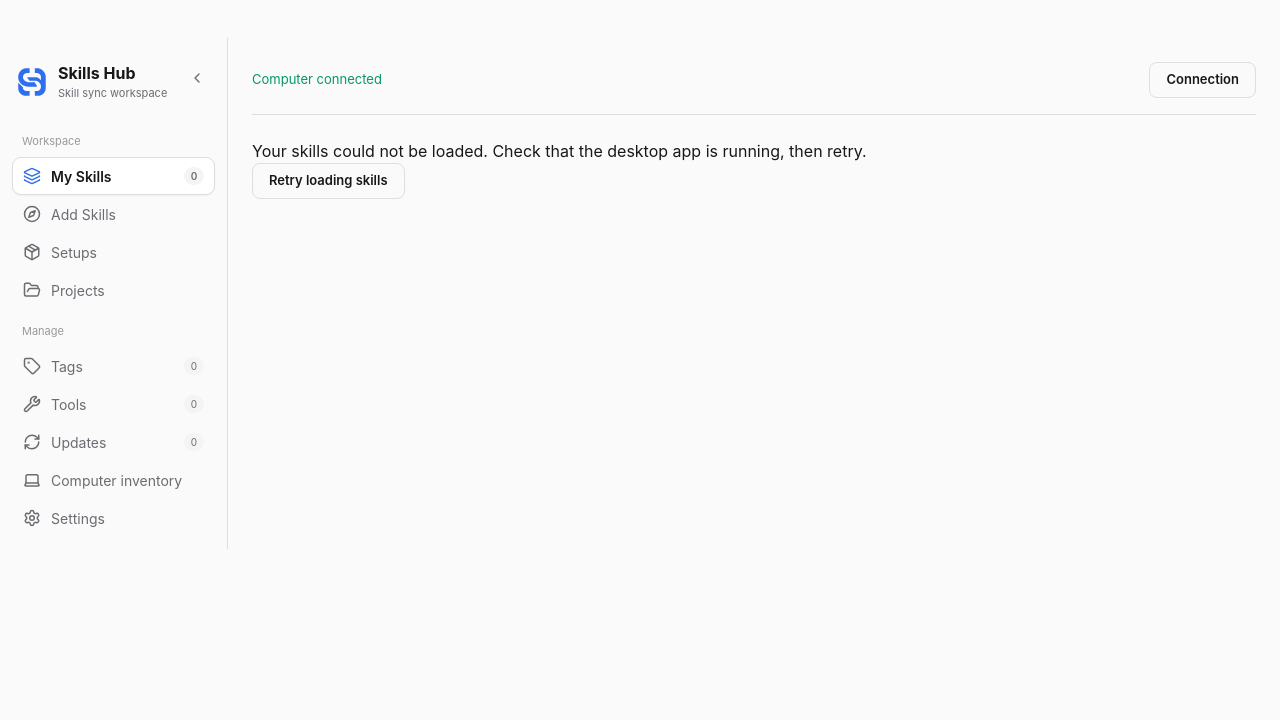
Scenario: keeps a failed first library load recoverable after transient feedback disappears
Expected: the message shows "Your skills could not be loaded", [252, 141, 867, 161]
Click the button "Retry loading skills".
click(328, 181)  # box [252, 163, 405, 199]
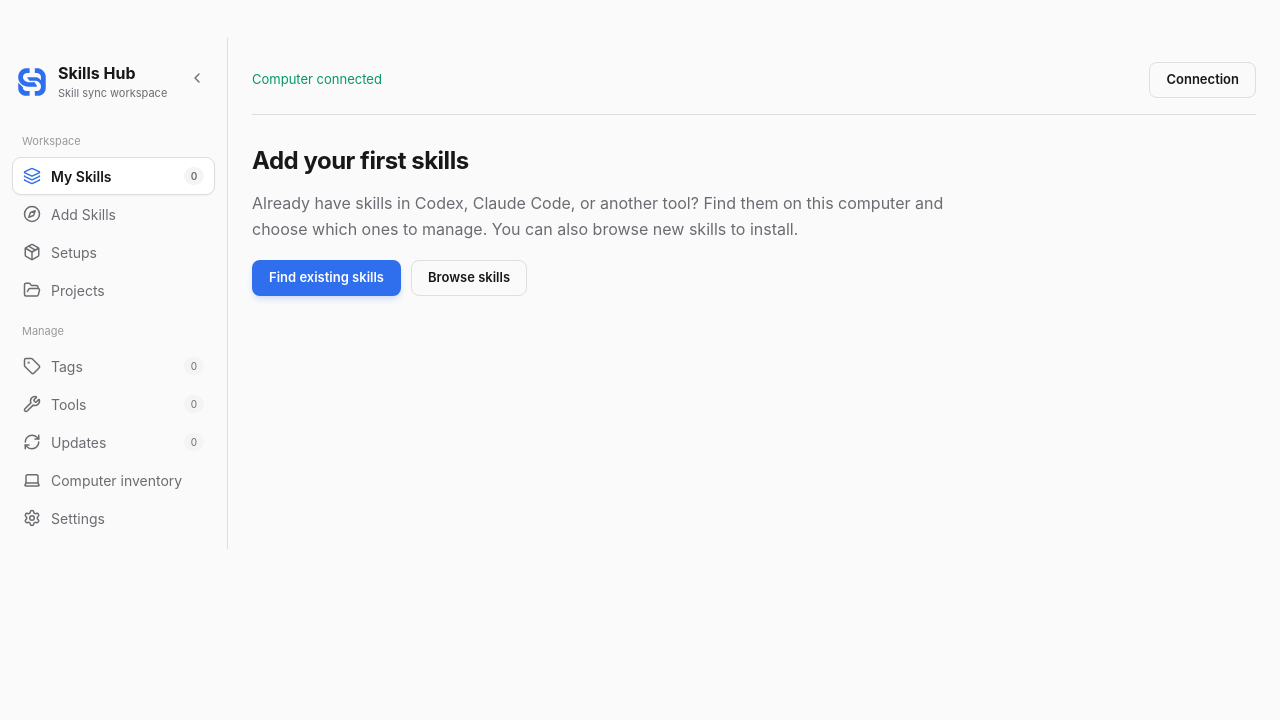
Expected: the message is gone
Expected: the heading with id "workspace-ready-title" reads "Add your first skills", [252, 146, 469, 175]
